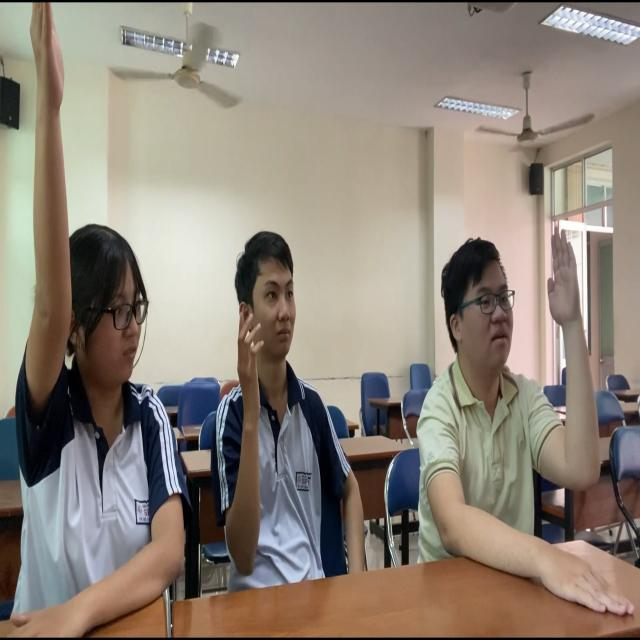raise_hand: (1, 1, 193, 640), (421, 217, 615, 551)
